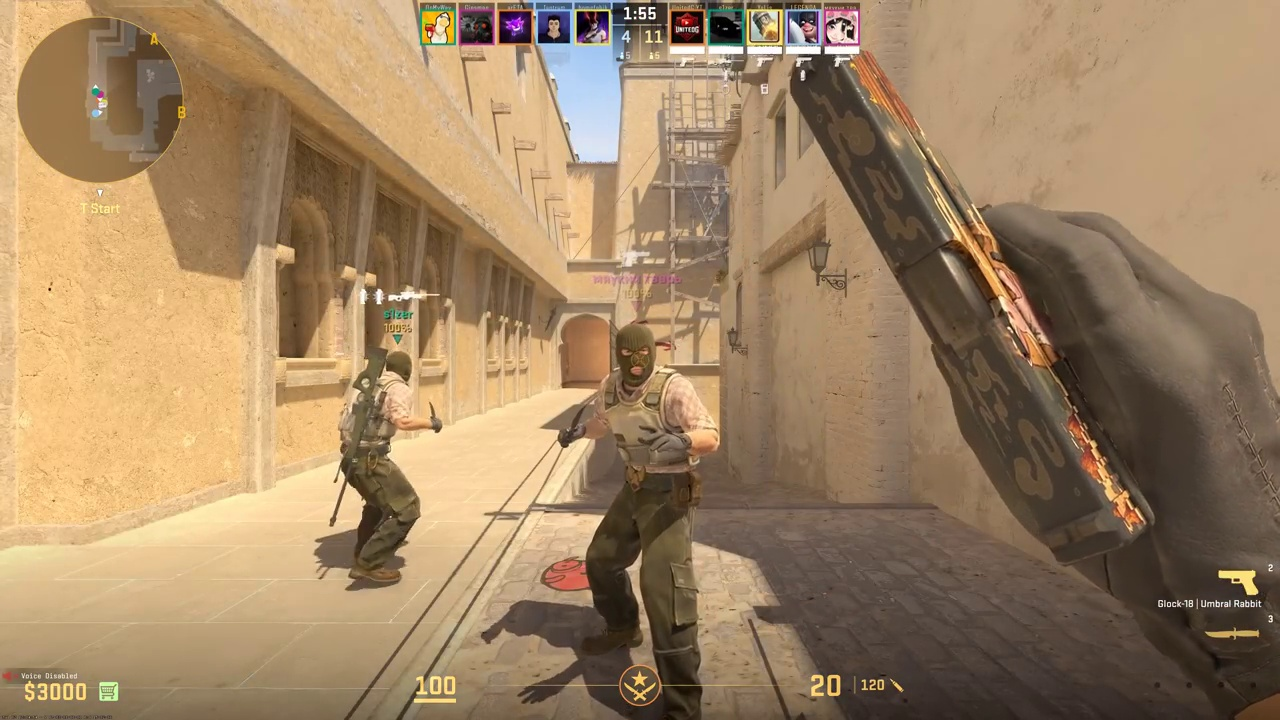Terrorist: (585, 323, 711, 719), (340, 350, 421, 591)
